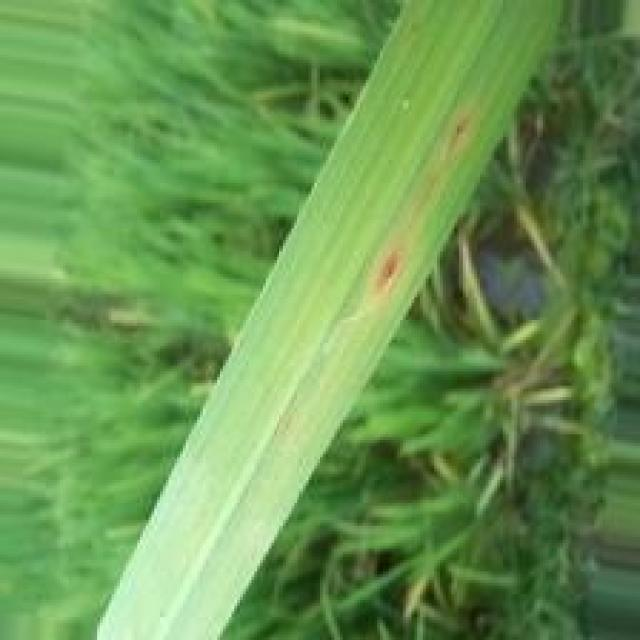Brown_Spot: (368, 233, 412, 310), (452, 118, 469, 141)
